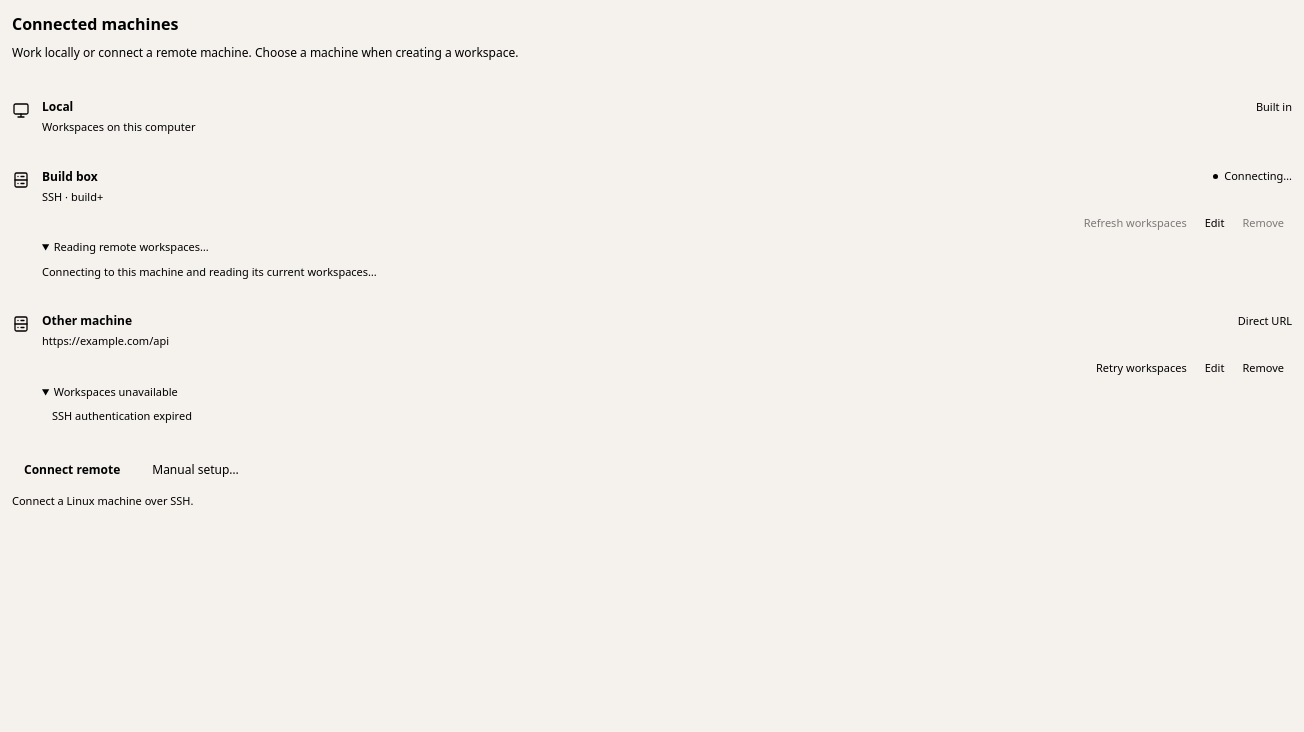
Scenario: ConnectionsPane › shows loading and failure independently per host, without substituting local workspaces or a zero count
This screenshot has width=1304, height=732.
expect the heading "Reading remote workspaces…" is shown: met, box [42, 239, 209, 256]
expect the text "Connecting…" is shown: met, box [1213, 168, 1292, 185]
Click the button "Retry workspaces". click: (1141, 367)
box: [1088, 359, 1195, 376]
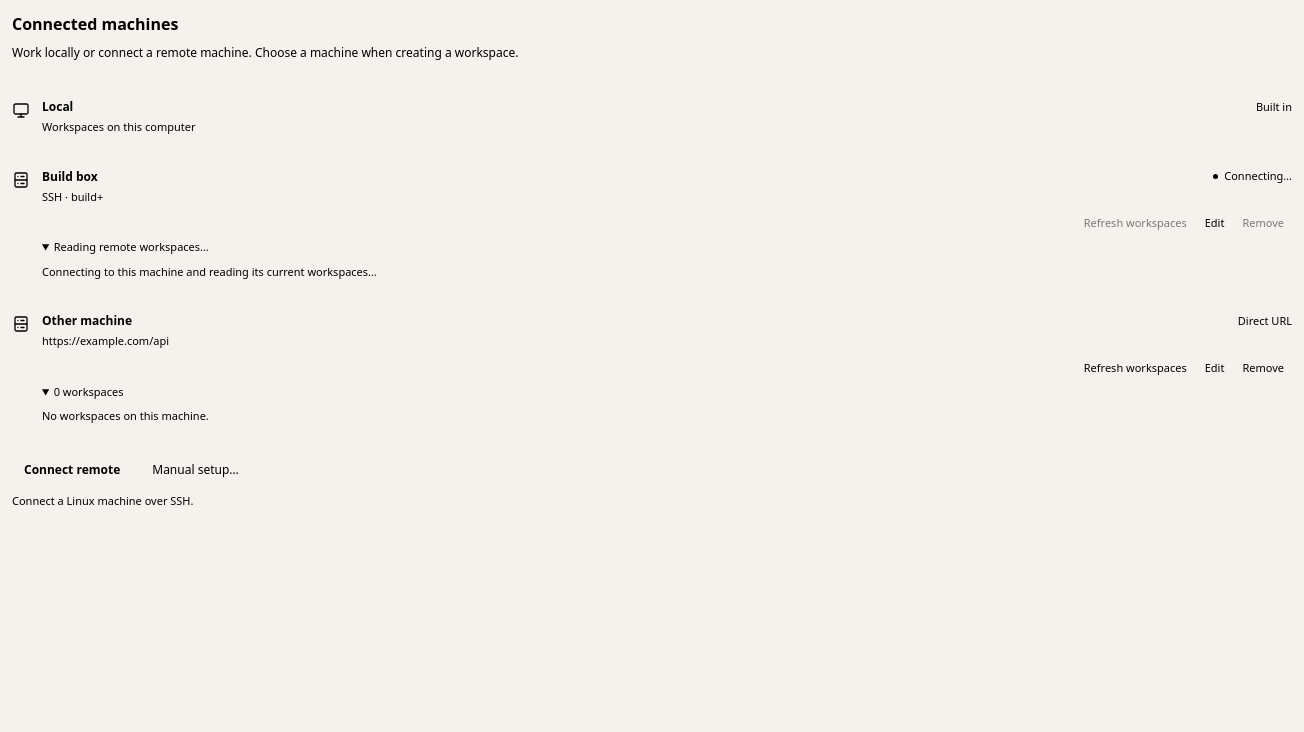
expect the heading "Reading remote workspaces…" is shown: met, box [42, 239, 209, 256]
expect the heading "0 workspaces" is shown: met, box [42, 384, 124, 400]
expect the text "No workspaces on this machine." is shown: met, box [42, 408, 209, 423]
